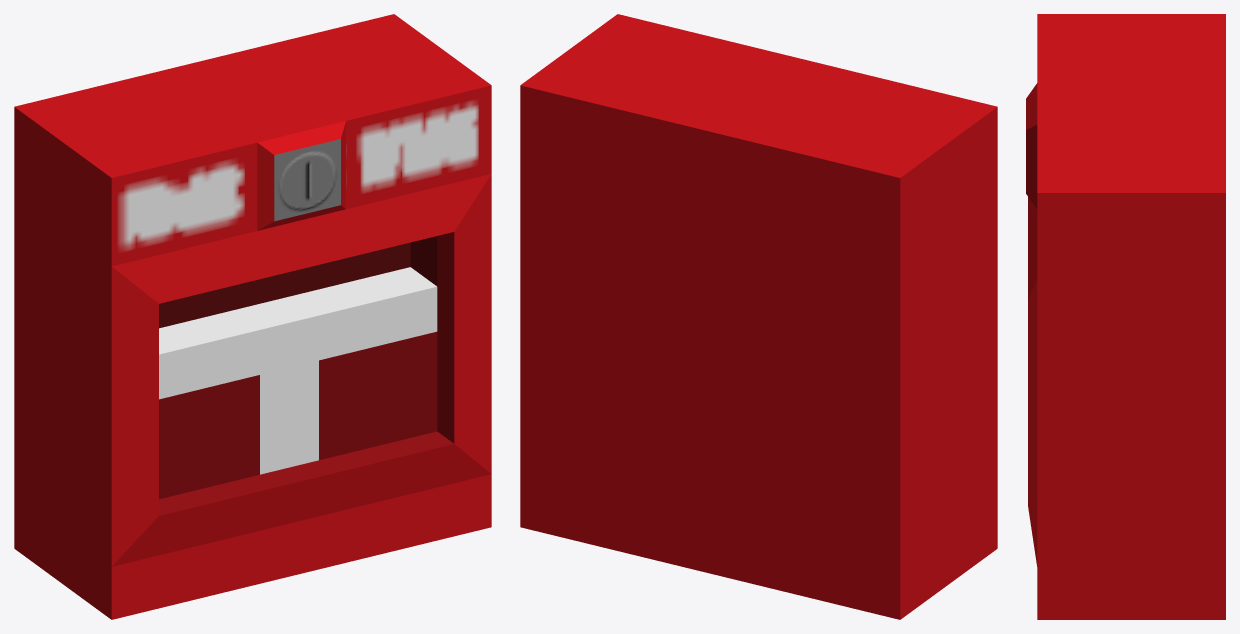
Rendered from SW_PROP_FireAlarm.fbx.
3 views of the same model, side by side, from view 1: azimuth 30°, elevation 25°; view 2: azimuth 150°, elevation 25°; view 3: azimuth 270°, elevation 25° (orthographic). The views are drawn at different scales.
Visible parts, largest first — view 1: SW_PROP_FireAlarm; view 2: SW_PROP_FireAlarm; view 3: SW_PROP_FireAlarm.
Part boxes in pixels (x1,y1,x2,y2): SW_PROP_FireAlarm: (14,14,491,619); SW_PROP_FireAlarm: (520,14,997,619); SW_PROP_FireAlarm: (1026,14,1225,619).
Size of the model in its own units: 9 by 10 by 4.24.
